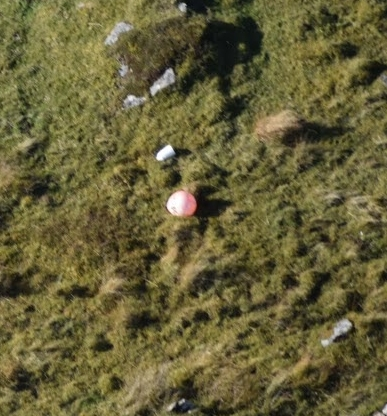white_in_green: (147, 171, 220, 233), (141, 129, 191, 174)
